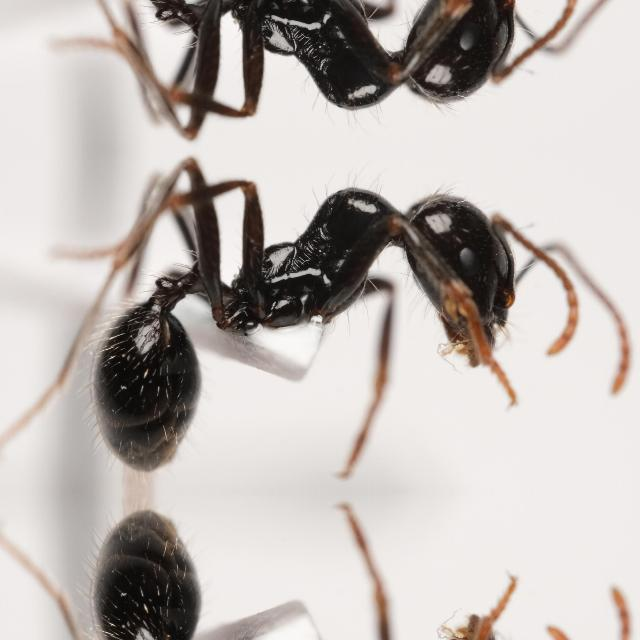Messor: (68, 148, 548, 490), (68, 491, 548, 640), (68, 0, 548, 148)
